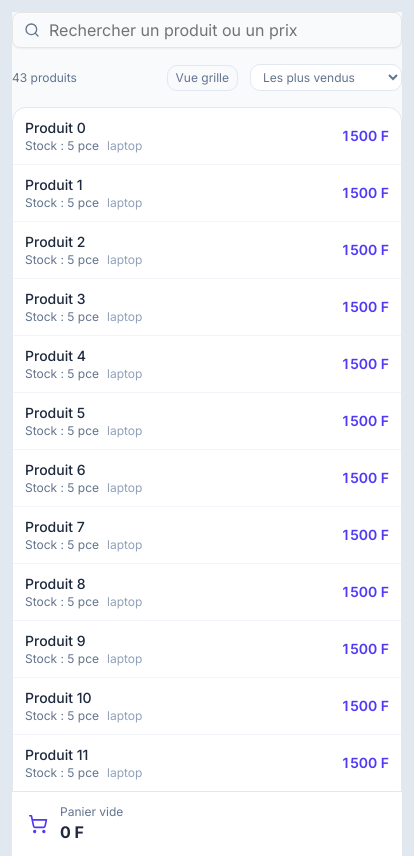
Test case: POS — le total affiché est bien celui du panier › additionne les articles, le panier n'étant pas à un article près
Click the text "Produit 0" at (55, 128), box [25,119,86,136]
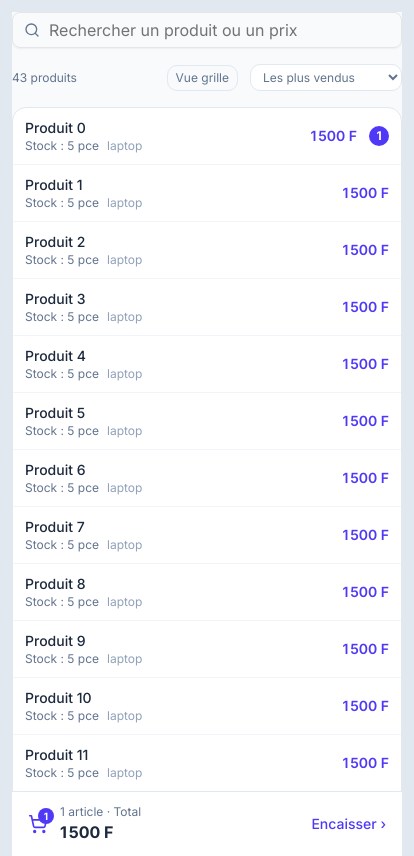
Now the button with aria-label "1 article, total" is shown, box [12,791,402,855]
Click the text "Produit 1" at (54, 184), box [25,176,82,193]
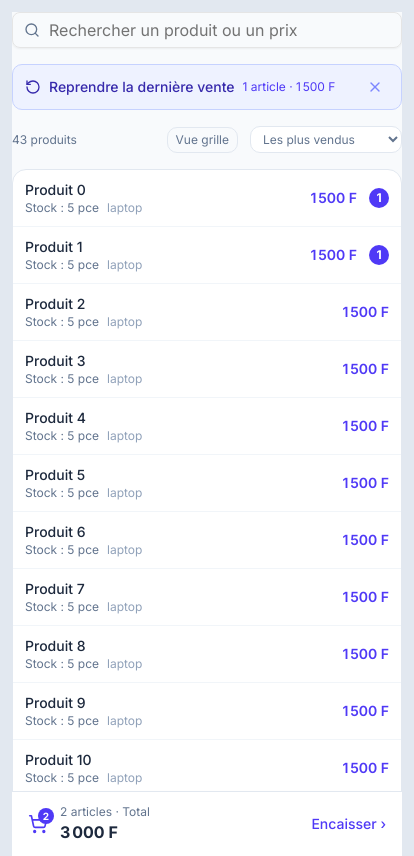
Now the button with aria-label "2 articles, total" is shown, box [12,791,402,855]
